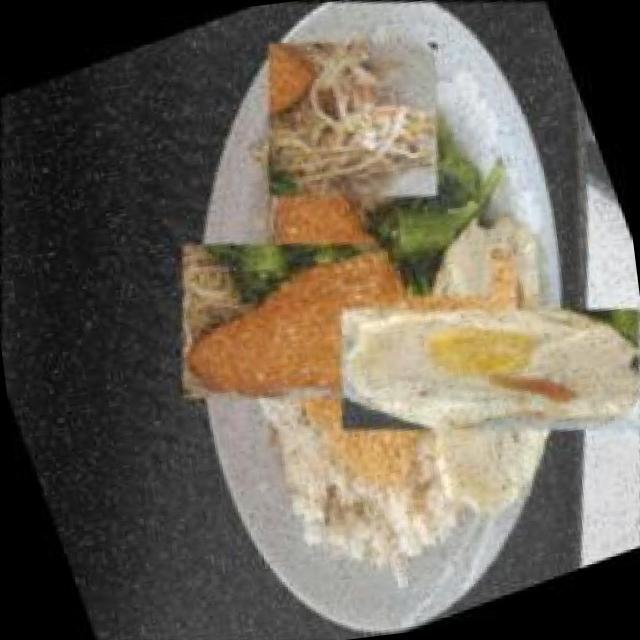fried_chicken: (138, 110, 556, 528)
fried_eggs: (308, 186, 640, 546)
mung_bean_sprouts: (213, 0, 489, 256)
rice: (276, 430, 467, 595)
water_spinach: (330, 117, 541, 336)
